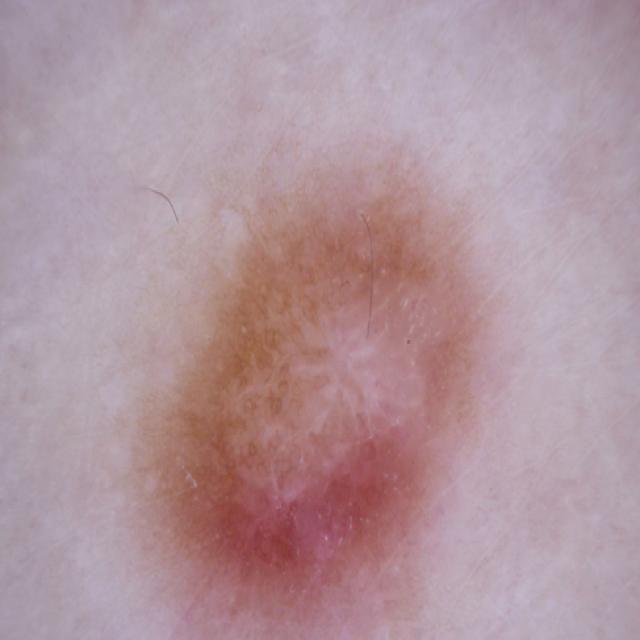Dermatofibroma: (132, 163, 550, 636)
